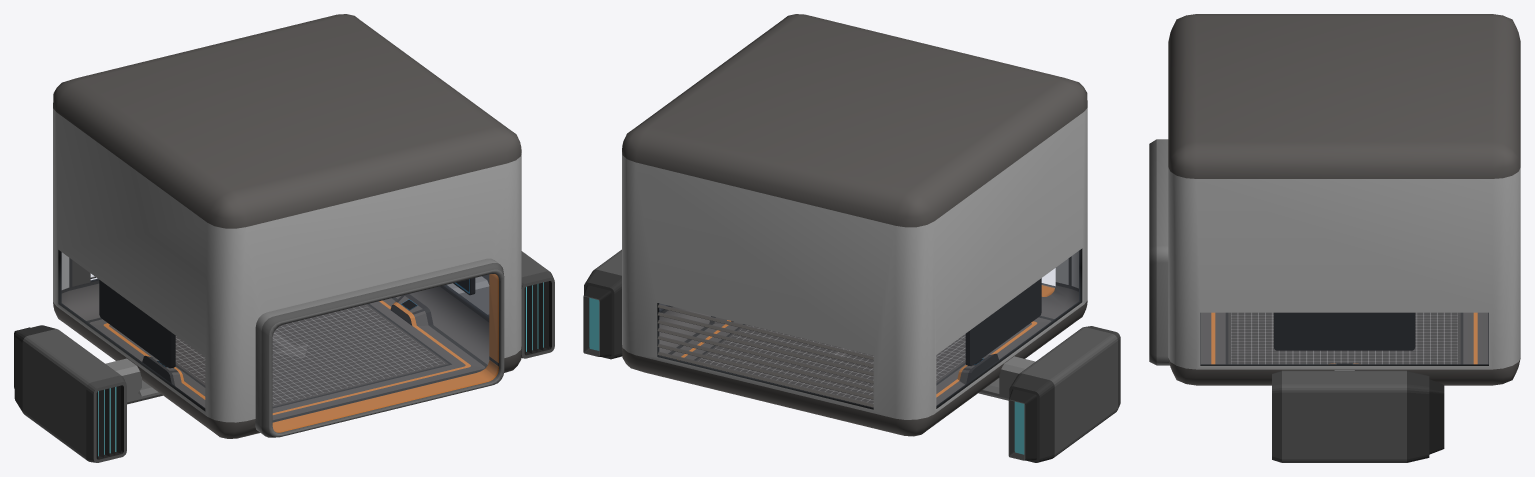
File: robocraft-like_mothership.glb
The picture shows the model from 3 angles, left to right: view 1: azimuth 30°, elevation 25°; view 2: azimuth 150°, elevation 25°; view 3: azimuth 270°, elevation 25°; orthographic projection.
Visible parts, largest first — view 1: Mothership, Extras, Glass; view 2: Mothership, Extras; view 3: Mothership, Extras.
Part boxes in pixels (x1=…): Mothership: x1=53, y1=14, x2=521, y2=438; Extras: x1=14, y1=251, x2=554, y2=462; Glass: x1=90, y1=274, x2=489, y2=317; Mothership: x1=622, y1=14, x2=1087, y2=436; Extras: x1=583, y1=249, x2=1120, y2=462; Mothership: x1=1149, y1=14, x2=1520, y2=385; Extras: x1=1272, y1=312, x2=1444, y2=462.
Bounding box in the file's own units: 24.52 × 14.05 × 17.25.
4 materials, 2 textured.
